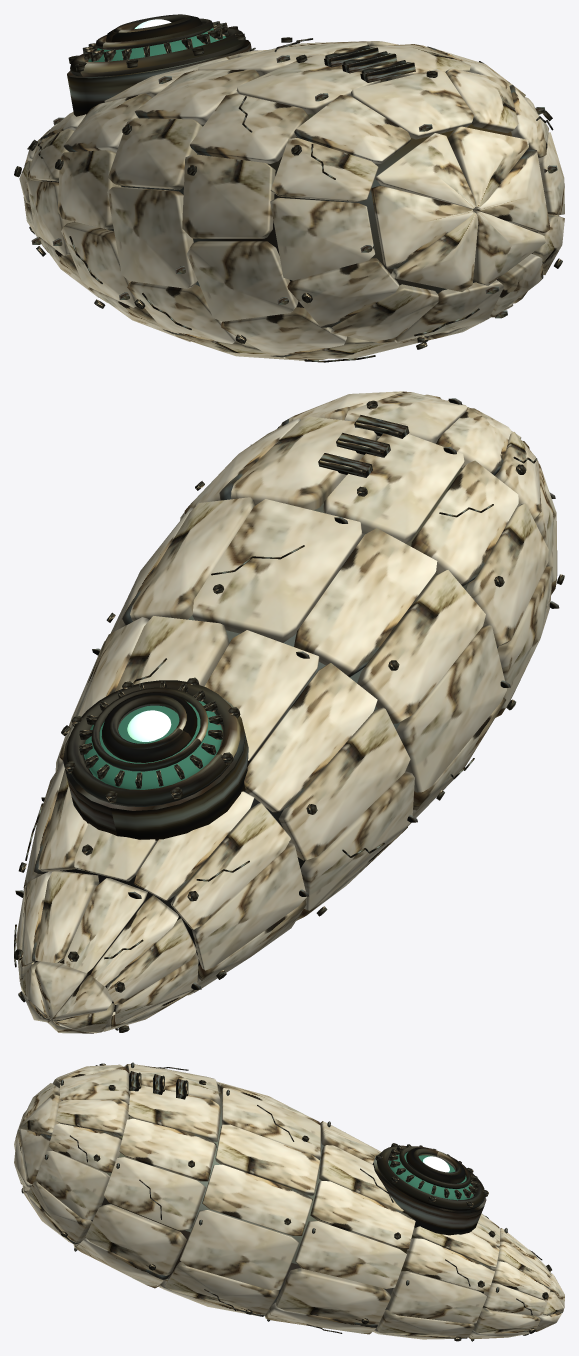
The model's file is body-hunter-v3.glb.
3 renders of one model, top to bottom at view 1: azimuth 30°, elevation 25°; view 2: azimuth 150°, elevation 25°; view 3: azimuth 270°, elevation 25°, orthographic. The views are drawn at different scales.
Parts seen in each view (by area): view 1: hunter-ceramic, hunter-steel, hunter-brass, hunter-glass; view 2: hunter-ceramic, hunter-steel, hunter-brass, hunter-glass, hunter-light; view 3: hunter-ceramic, hunter-steel, hunter-brass, hunter-glass.
Part boxes in pixels (x1=…): hunter-ceramic: x1=19, y1=41, x2=564, y2=360; hunter-steel: x1=27, y1=15, x2=557, y2=362; hunter-brass: x1=14, y1=14, x2=562, y2=349; hunter-glass: x1=88, y1=28, x2=226, y2=62; hunter-ceramic: x1=16, y1=391, x2=557, y2=1033; hunter-steel: x1=14, y1=398, x2=559, y2=1030; hunter-brass: x1=14, y1=400, x2=564, y2=1032; hunter-glass: x1=84, y1=701, x2=222, y2=789; hunter-light: x1=127, y1=710, x2=171, y2=741; hunter-ceramic: x1=14, y1=1064, x2=564, y2=1339; hunter-steel: x1=21, y1=1062, x2=542, y2=1341; hunter-brass: x1=60, y1=1063, x2=551, y2=1341; hunter-glass: x1=388, y1=1152, x2=473, y2=1200.
Size of the model in its own units: 0.7927 by 0.8735 by 1.72.
Materials: 5 (3 with a texture image).
